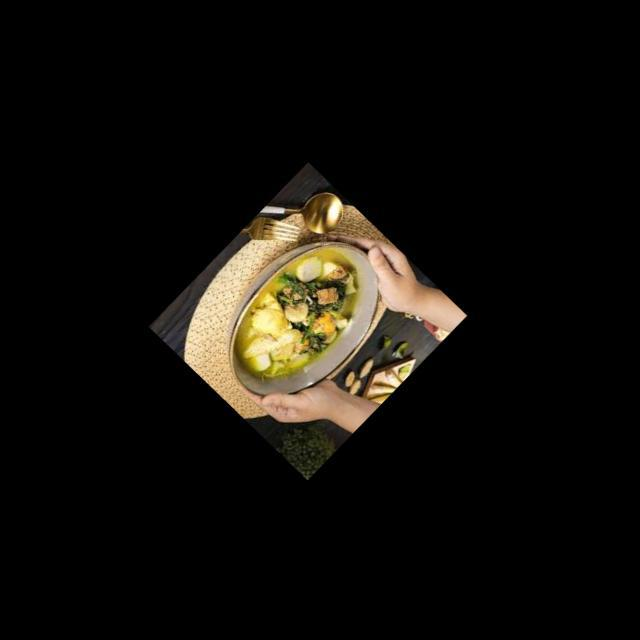Soto: (229, 240, 377, 395)
